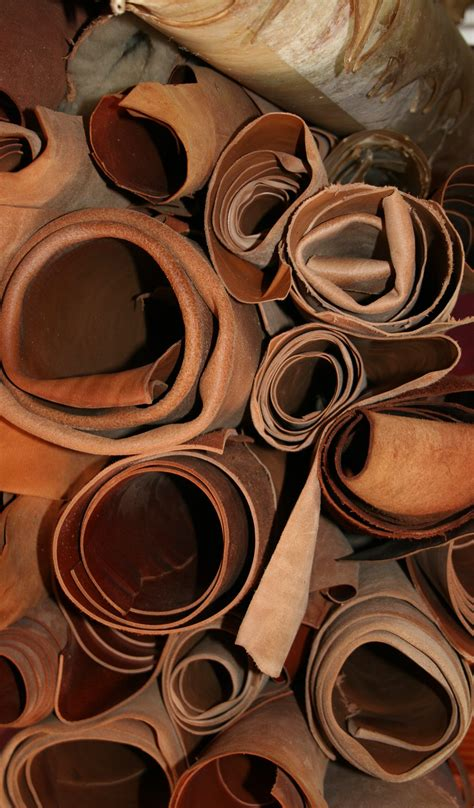cuero: (3, 3, 474, 808)
